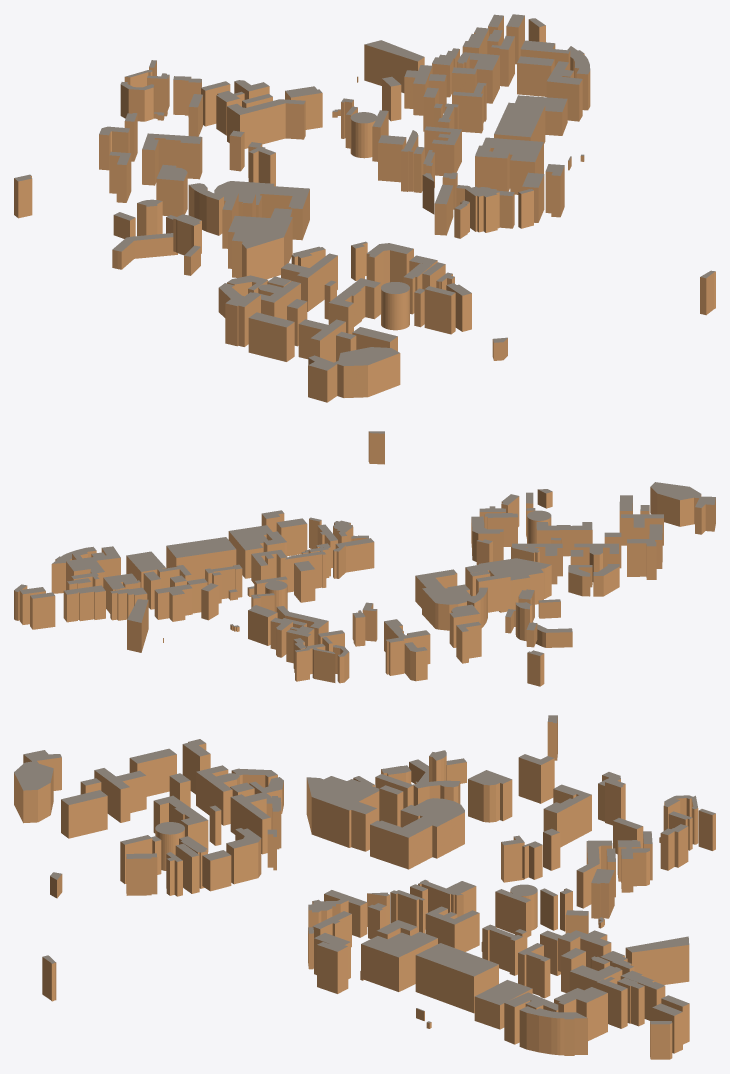
File: 안암_고려대_건물.fbx
3 views of the same model, one above another, from view 1: azimuth 30°, elevation 25°; view 2: azimuth 150°, elevation 25°; view 3: azimuth 270°, elevation 25° (orthographic). The views are drawn at different scales.
Parts seen in each view (by area): view 1: map.osm_buildings; view 2: map.osm_buildings; view 3: map.osm_buildings.
Boxes of the visible parts, bbox=[...] form: map.osm_buildings: bbox=[14, 14, 715, 402]; map.osm_buildings: bbox=[14, 431, 715, 686]; map.osm_buildings: bbox=[14, 715, 715, 1059].
Size of the model in its own units: 115209 by 13592 by 118936.
